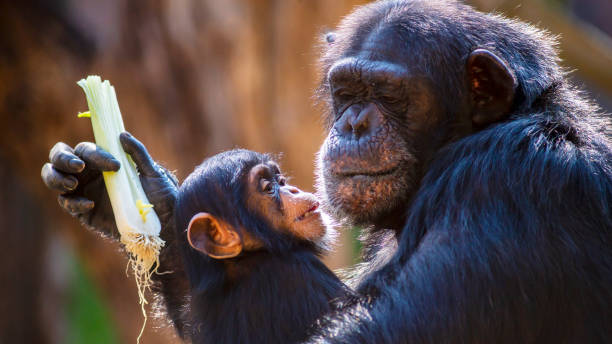chimpanzee: (311, 1, 529, 242), (175, 138, 335, 294)
